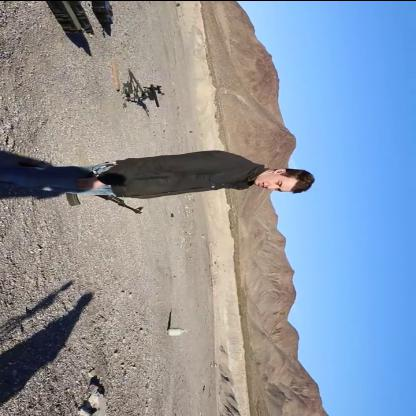long weapon: (121, 78, 170, 113)
